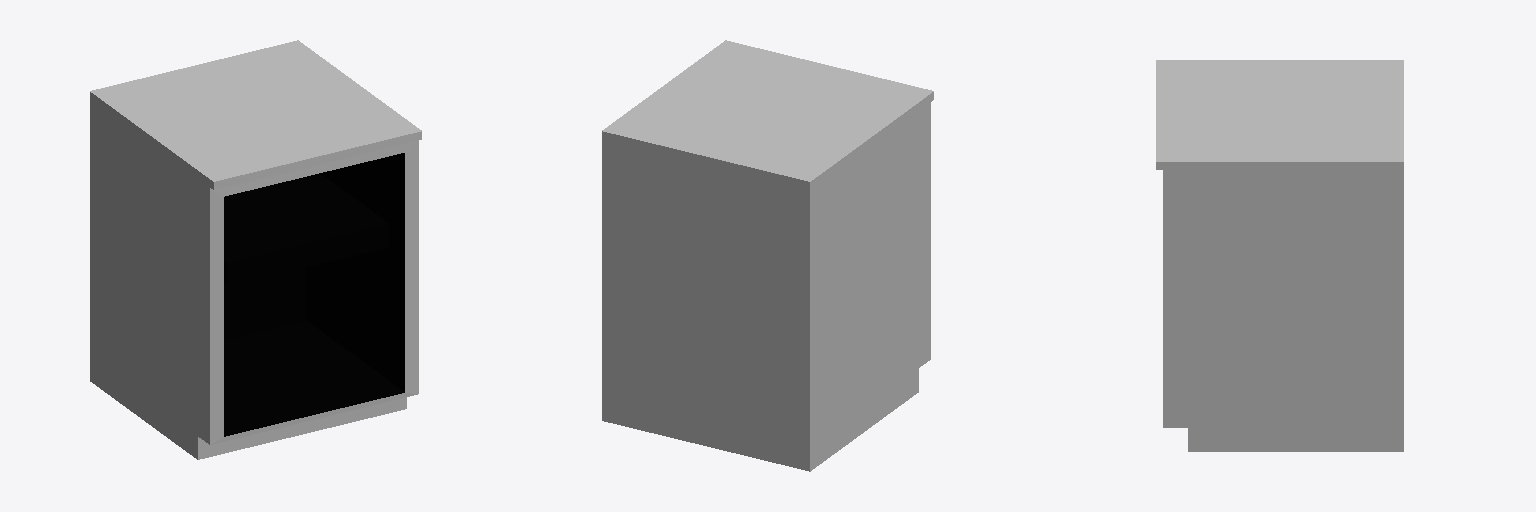
File: dishwasherbody.obj
3 views of the same model, side by side, from view 1: azimuth 30°, elevation 25°; view 2: azimuth 150°, elevation 25°; view 3: azimuth 270°, elevation 25° (orthographic).
Parts seen in each view (by area): view 1: kitchen04_Cube.008; view 2: kitchen04_Cube.008; view 3: kitchen04_Cube.008.
Boxes of the visible parts, x1,y1,x2,y2 form: kitchen04_Cube.008: [90, 40, 421, 459]; kitchen04_Cube.008: [602, 40, 933, 471]; kitchen04_Cube.008: [1156, 60, 1403, 451].
Size of the model in its own units: 0.5999 by 0.7958 by 0.6179.